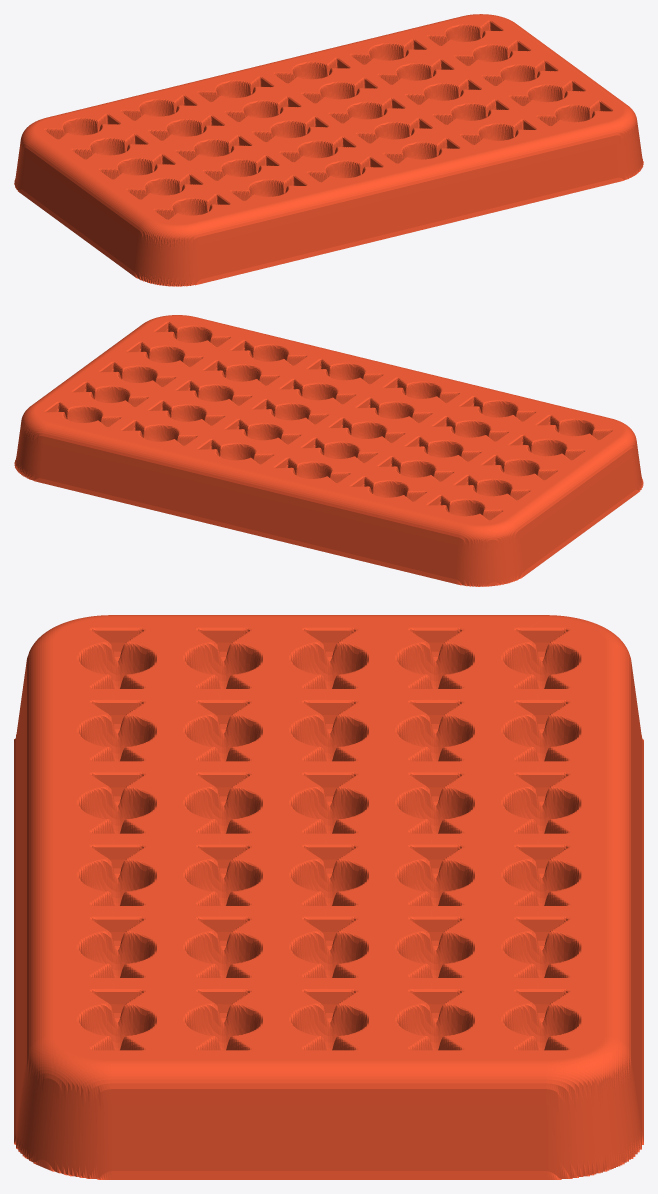
File: mold.glb
3 renders of one model, top to bottom at view 1: azimuth 30°, elevation 25°; view 2: azimuth 150°, elevation 25°; view 3: azimuth 270°, elevation 25°, orthographic. The views are drawn at different scales.
Parts seen in each view (by area): view 1: geometry_0; view 2: geometry_0; view 3: geometry_0.
Boxes of the visible parts, x1,y1,x2,y2 form: geometry_0: [14, 14, 643, 286]; geometry_0: [14, 315, 643, 586]; geometry_0: [14, 615, 643, 1179].
Size of the model in its own units: 0.104 by 0.0105 by 0.0582.
